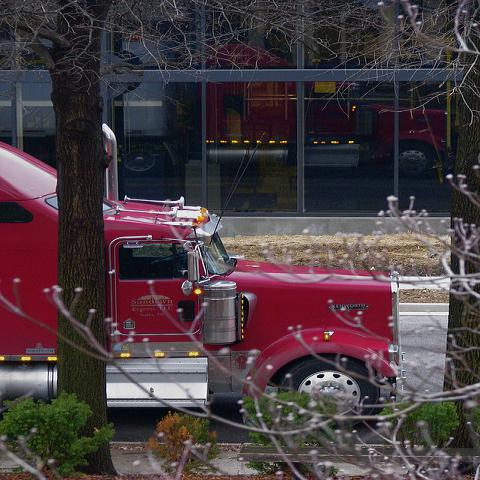truck: (3, 124, 408, 433)
